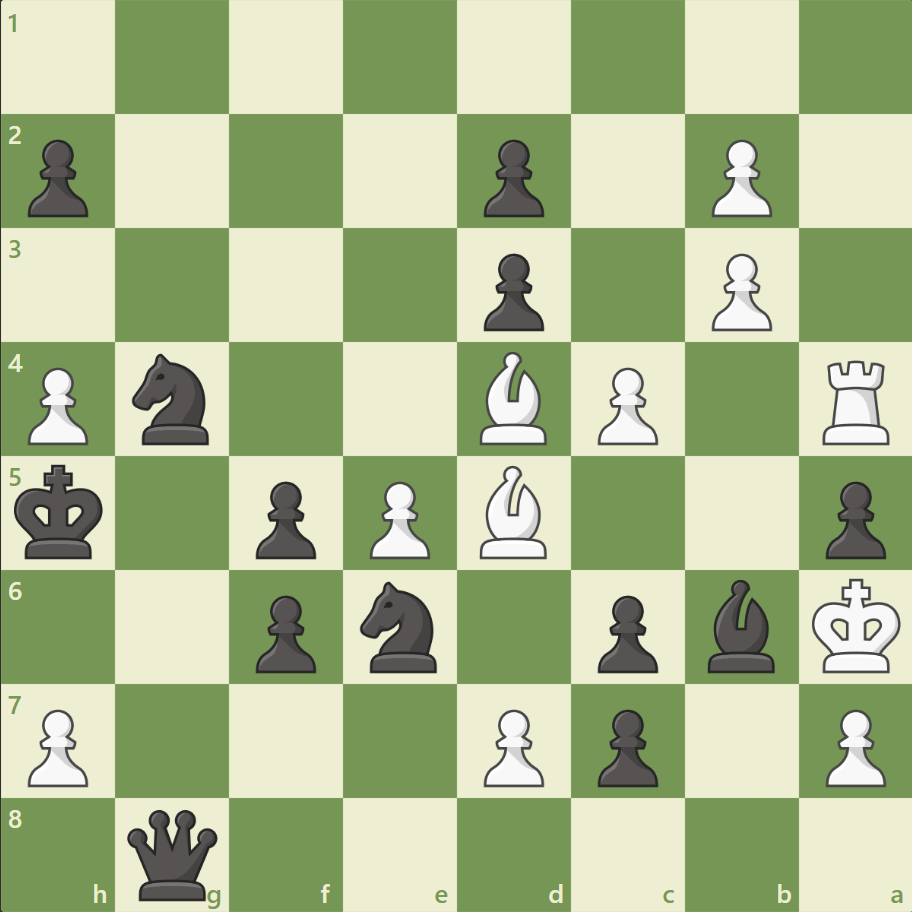B: (471, 460, 555, 563), (471, 347, 555, 449)
K: (806, 571, 906, 679)
P: (474, 700, 549, 791), (20, 700, 95, 791), (20, 359, 95, 450), (701, 246, 776, 337), (701, 132, 776, 223), (815, 700, 889, 791), (361, 473, 435, 564), (588, 359, 662, 450)
R: (814, 352, 897, 449)
b: (698, 574, 782, 676)
k: (11, 458, 111, 566)
n: (351, 575, 449, 677), (124, 348, 222, 450)
p: (247, 586, 322, 677), (247, 473, 322, 564), (474, 246, 549, 337), (474, 132, 549, 223), (20, 132, 95, 223), (588, 700, 662, 791), (588, 586, 662, 677), (815, 473, 889, 564)
q: (124, 804, 223, 903)
